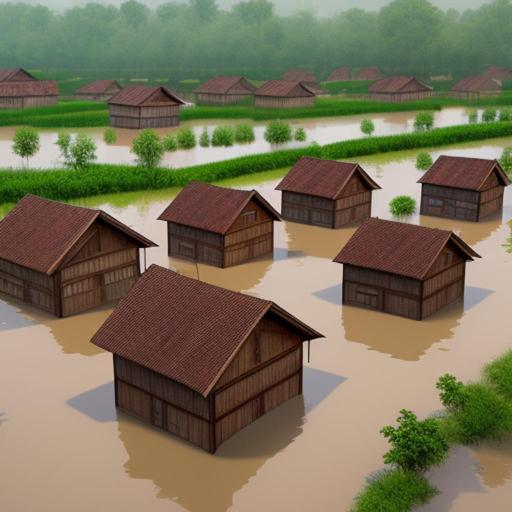flood: (0, 186, 512, 512), (348, 137, 512, 219), (416, 437, 512, 512), (162, 122, 273, 168), (279, 112, 418, 148), (28, 127, 139, 168), (213, 168, 290, 212), (180, 119, 249, 139), (0, 127, 21, 168), (436, 108, 468, 127)
house: (89, 259, 327, 458), (0, 189, 161, 328), (331, 210, 485, 324), (157, 180, 287, 274), (278, 155, 382, 229), (417, 148, 512, 222), (107, 82, 187, 132), (0, 64, 62, 112), (194, 74, 260, 108), (256, 77, 316, 111), (368, 74, 434, 102), (451, 74, 503, 100), (73, 77, 125, 103)
